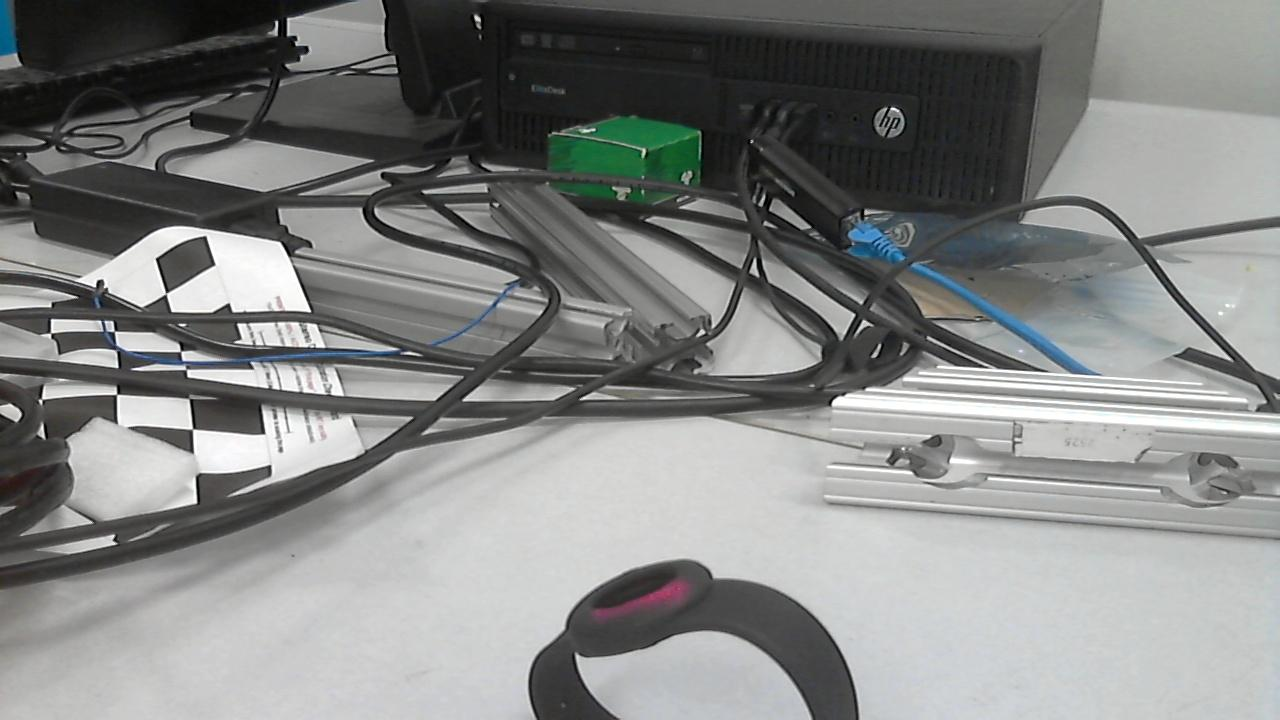Object fitness tracker replacement band - Material silicone - Pdfname fdfasdjhad: (572, 568, 698, 624)
